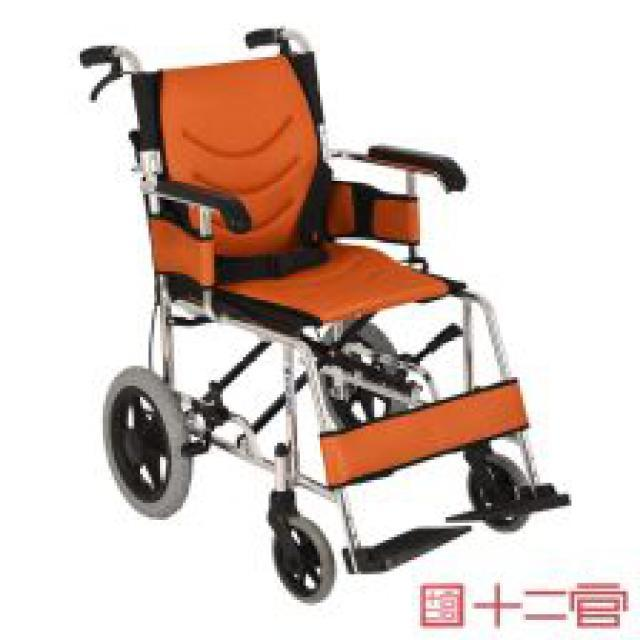wheelchair: (42, 20, 578, 597)
